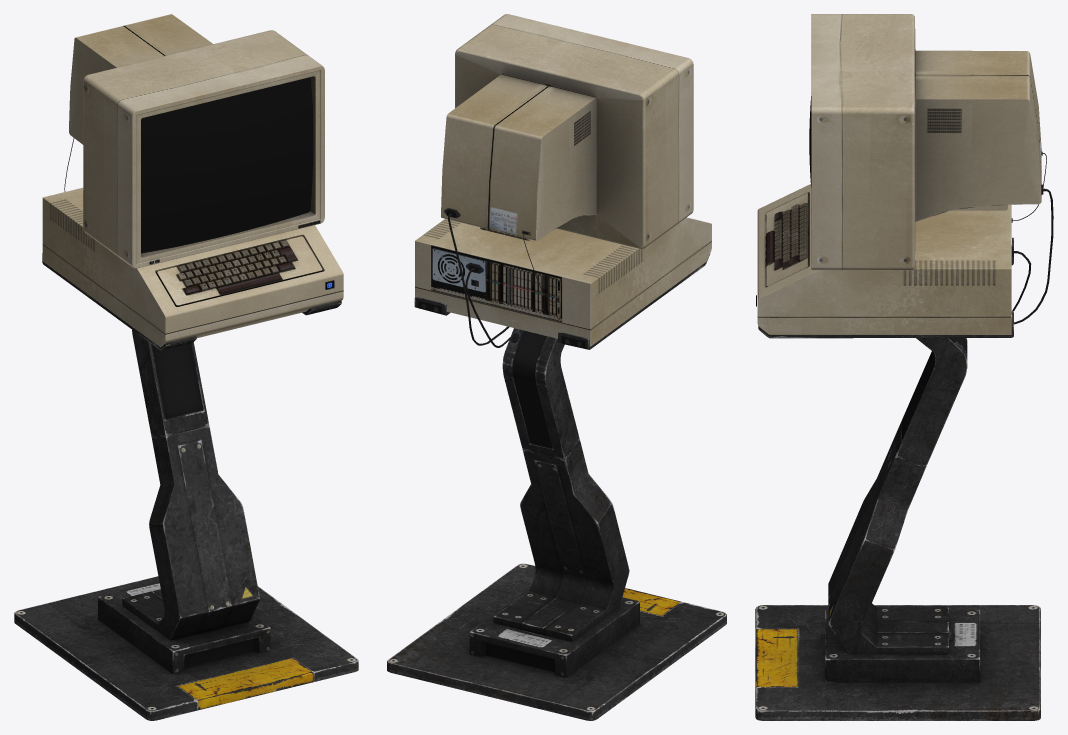
The model's file is terminal.glb.
3 renders of one model, left to right at view 1: azimuth 30°, elevation 25°; view 2: azimuth 150°, elevation 25°; view 3: azimuth 270°, elevation 25°, orthographic. The views are drawn at different scales.
Parts seen in each view (by area): view 1: Object_2, Object_7, Object_5; view 2: Object_2, Object_7; view 3: Object_2, Object_7.
Part boxes in pixels (<box>): Object_2: <box>42,14,343,347</box>; Object_7: <box>14,138,358,720</box>; Object_5: <box>141,77,312,253</box>; Object_2: <box>415,14,711,346</box>; Object_7: <box>387,209,726,720</box>; Object_2: <box>756,14,1041,334</box>; Object_7: <box>755,151,1053,720</box>.
Bounding box in the file's own units: 0.7039 × 1.87 × 0.8313.
3 materials, 2 textured.
